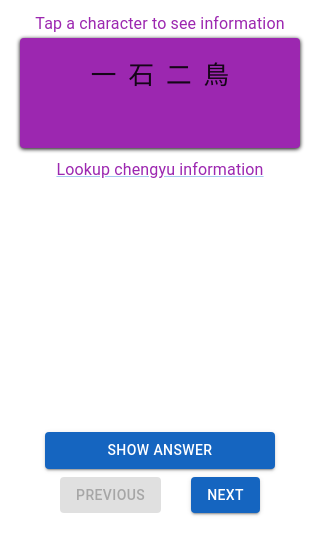
it: TestChengyusTest › displays character data when lookup succeeds
Click the button named "Show details for 石".
click(141, 72)  # box [122,48,160,97]
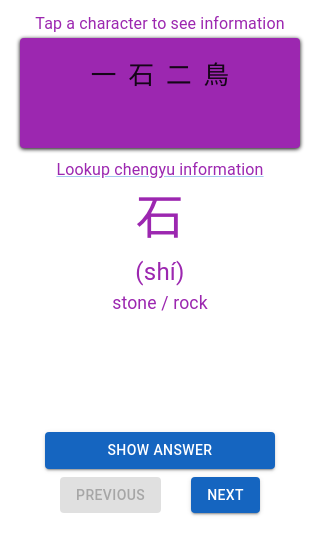
Check: the text "(shí)" is shown, box [135,258,185,286]
Check: the text "stone / rock" is shown, box [112,293,208,313]
